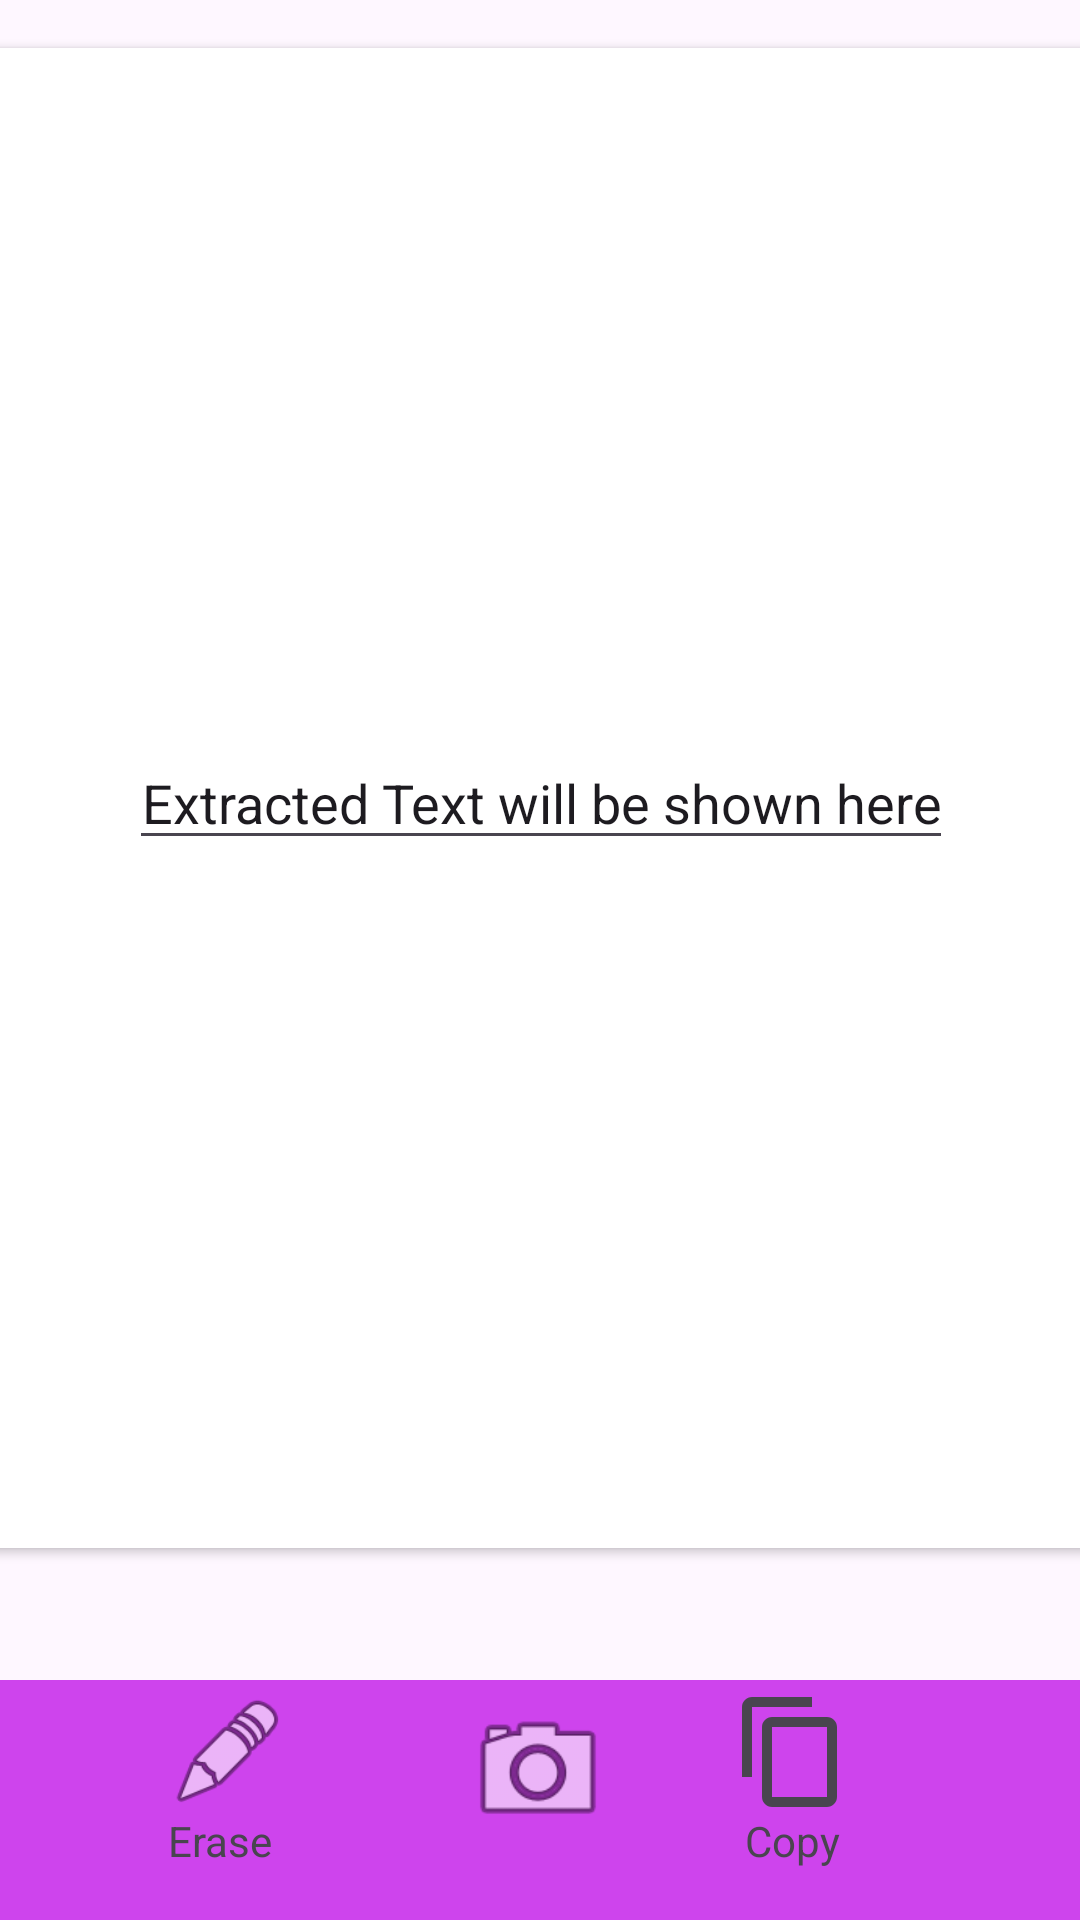

Locate icon controls on the screen. Image size 1080*1920, boxes as [x1=x1, y1=y1, x2=x2, y2=y2].
camera: [x1=480, y1=1721, x2=596, y2=1814]
edit: [x1=177, y1=1700, x2=278, y2=1802]
